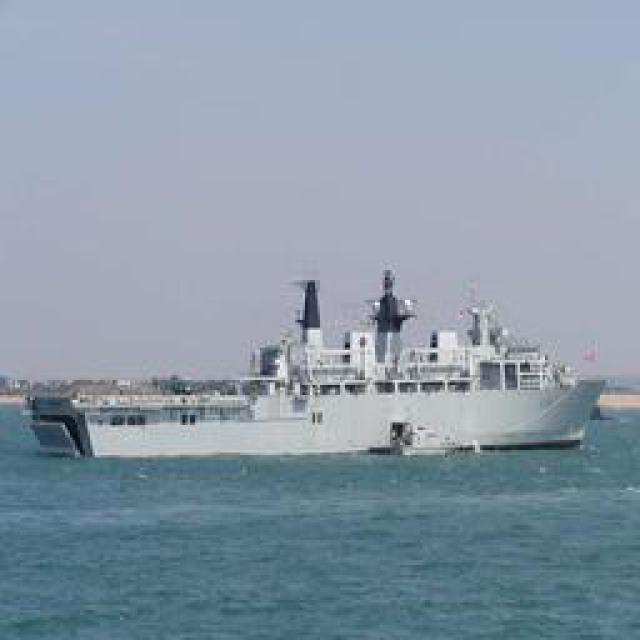Ship: (71, 270, 606, 463)
